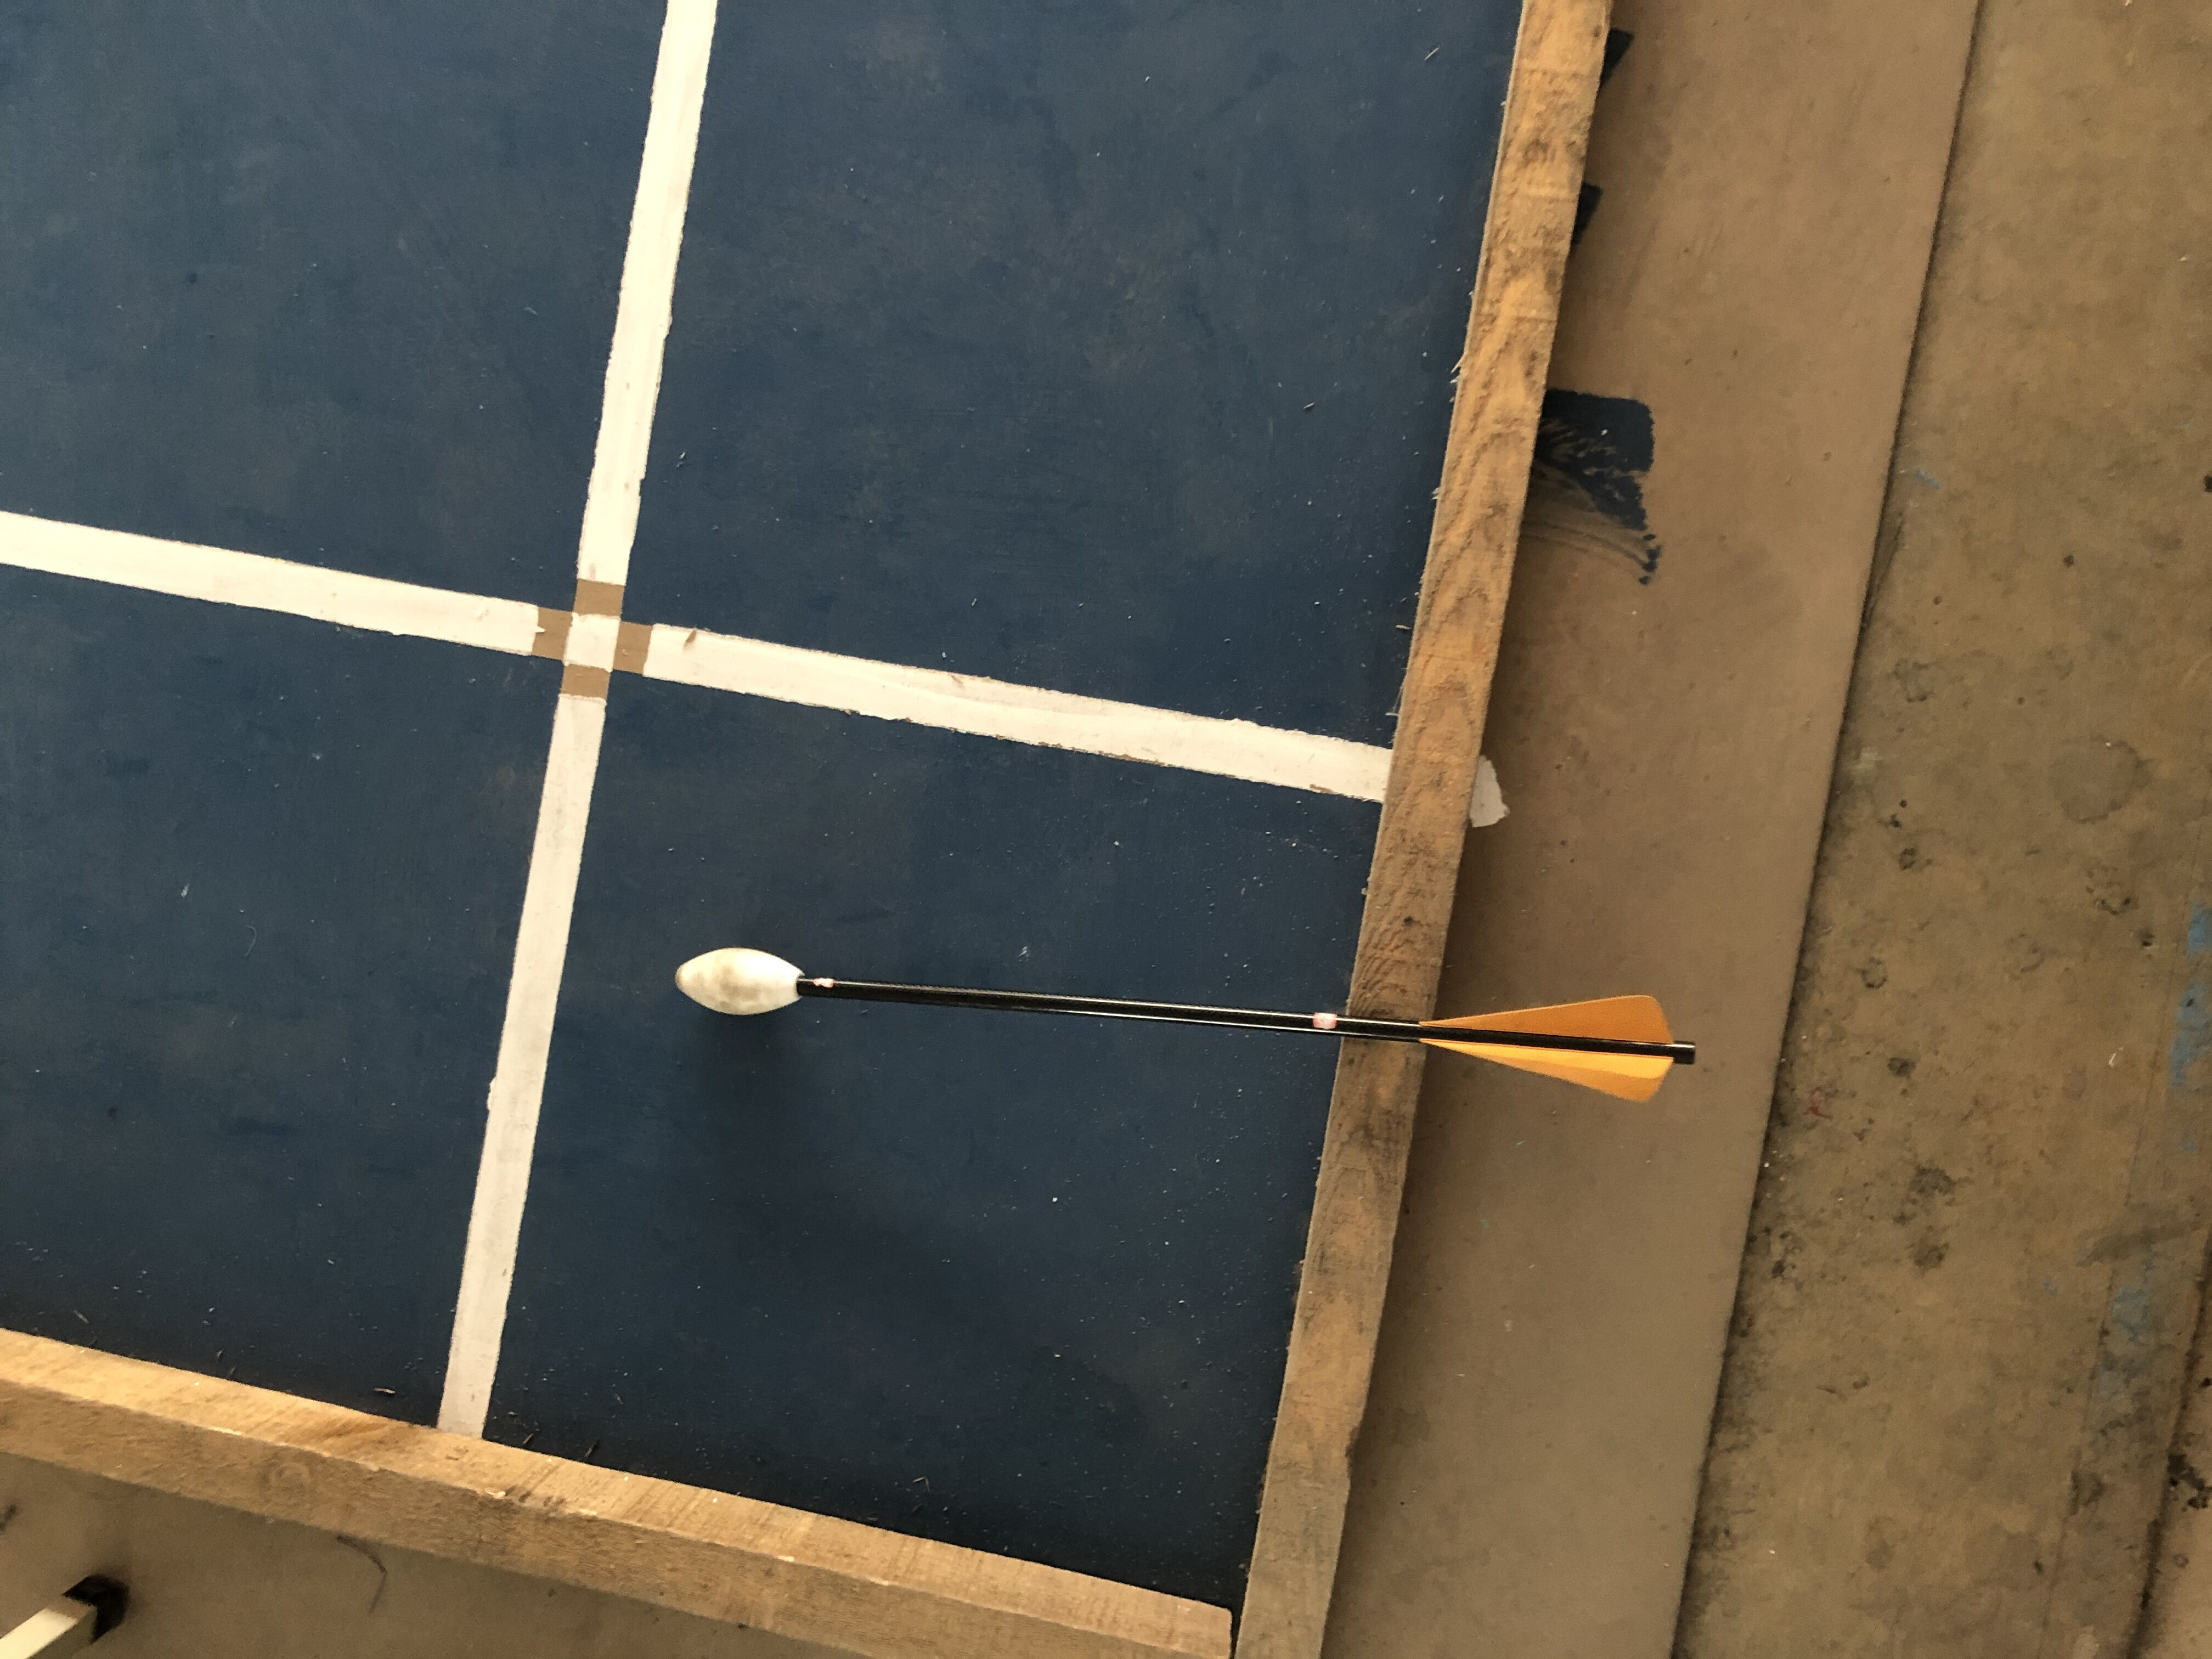arrow: (674, 943, 1696, 1103)
arrowFront: (671, 941, 812, 1018)
